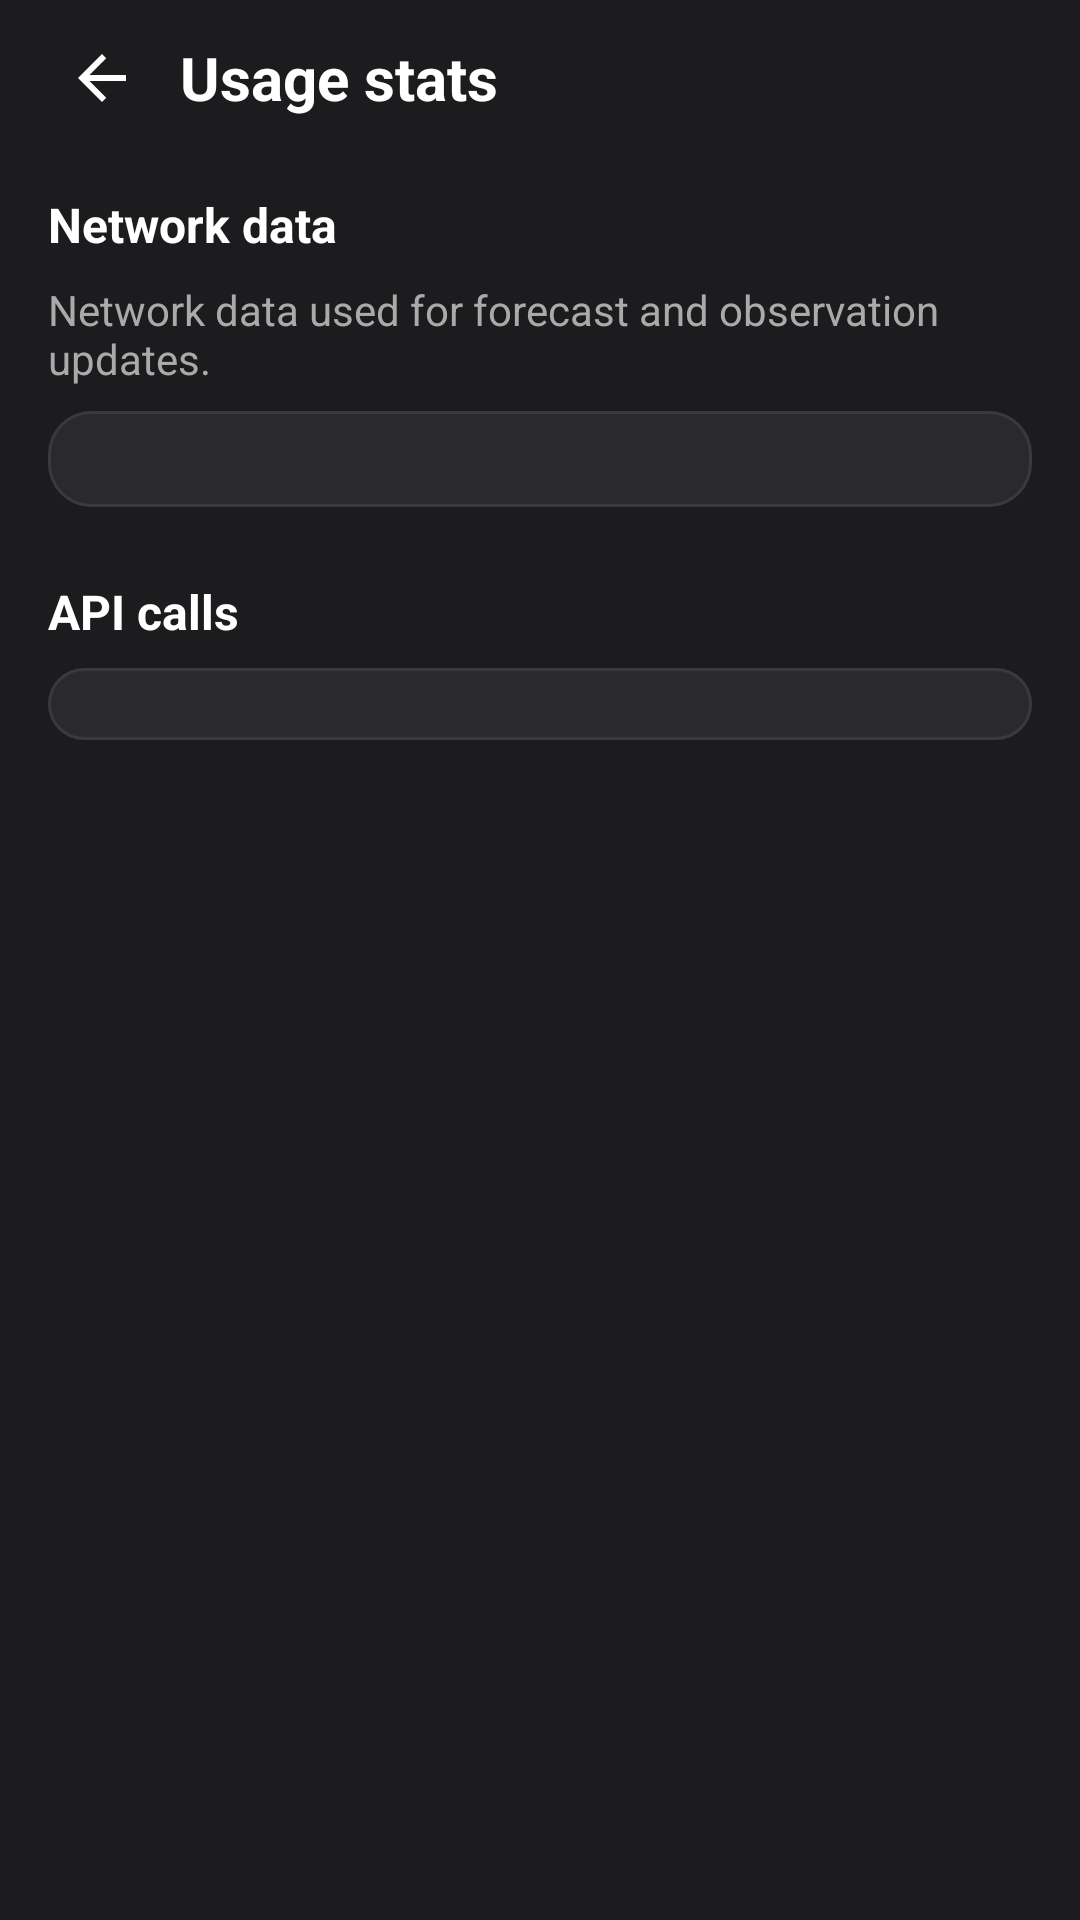

Named icons in this screenshot (1080px×1920px) and their centers, point (x, y):
Back: point (102, 78)
